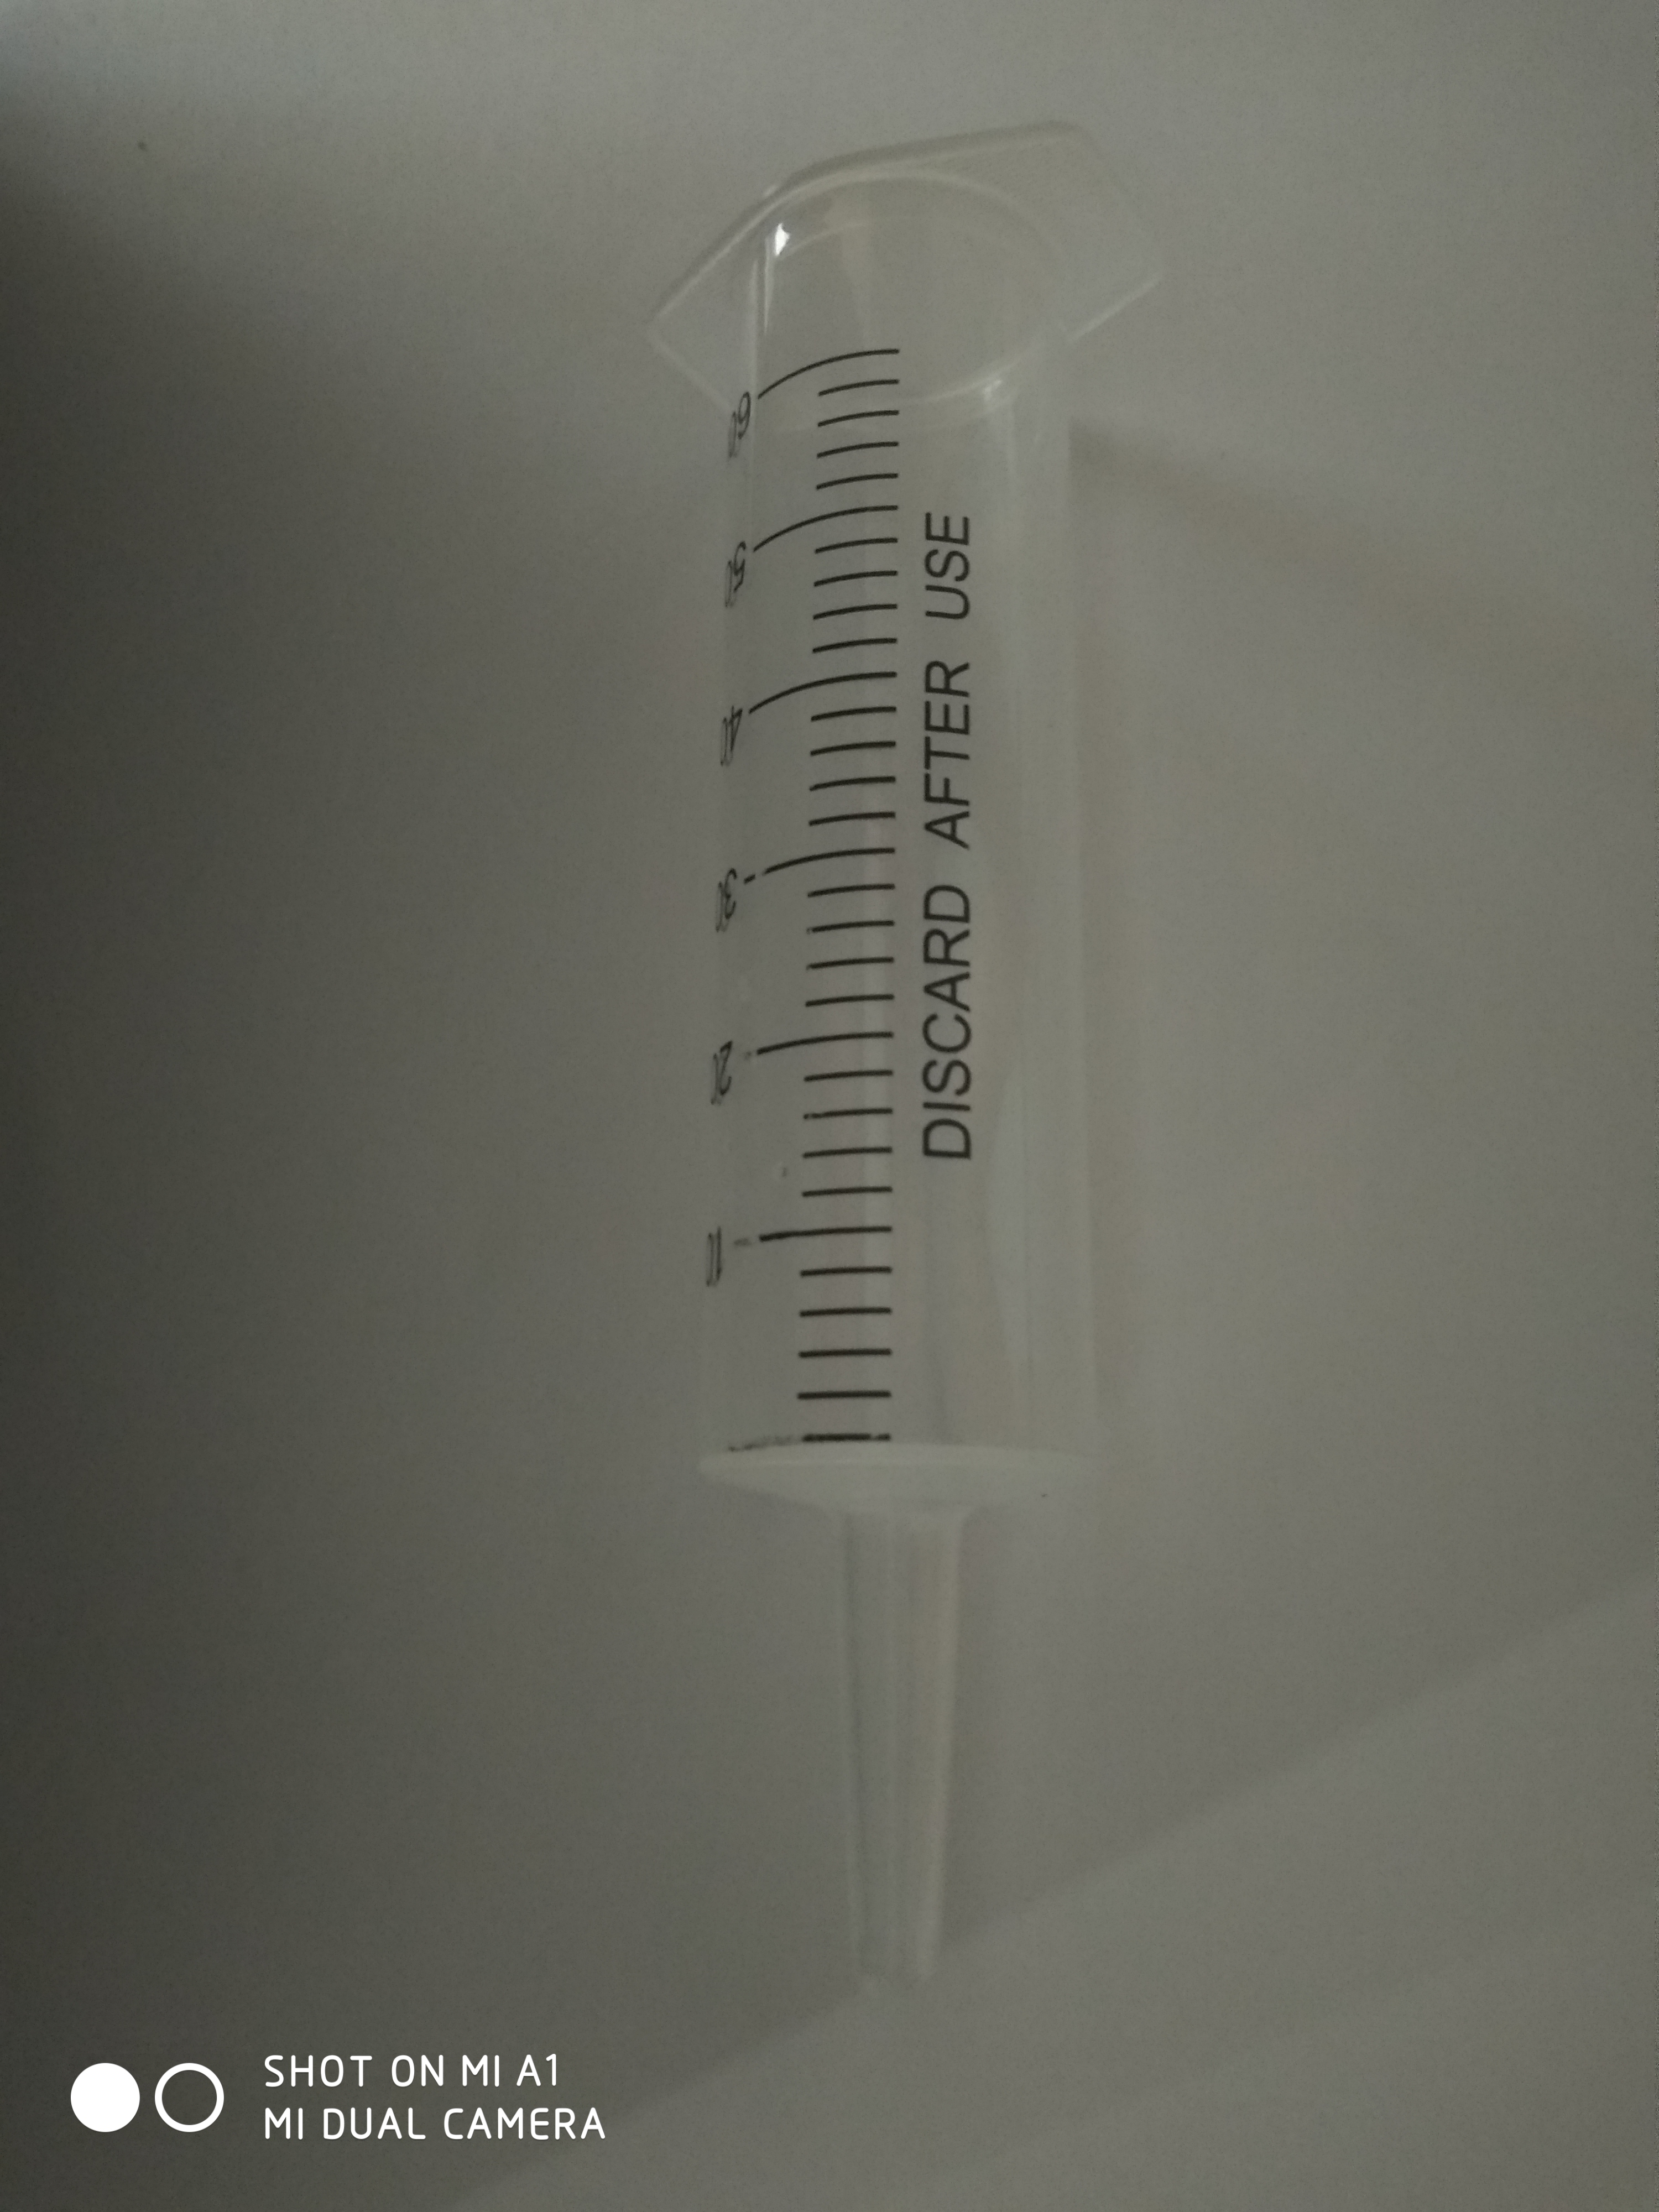syringe: (626, 113, 1183, 2008)
